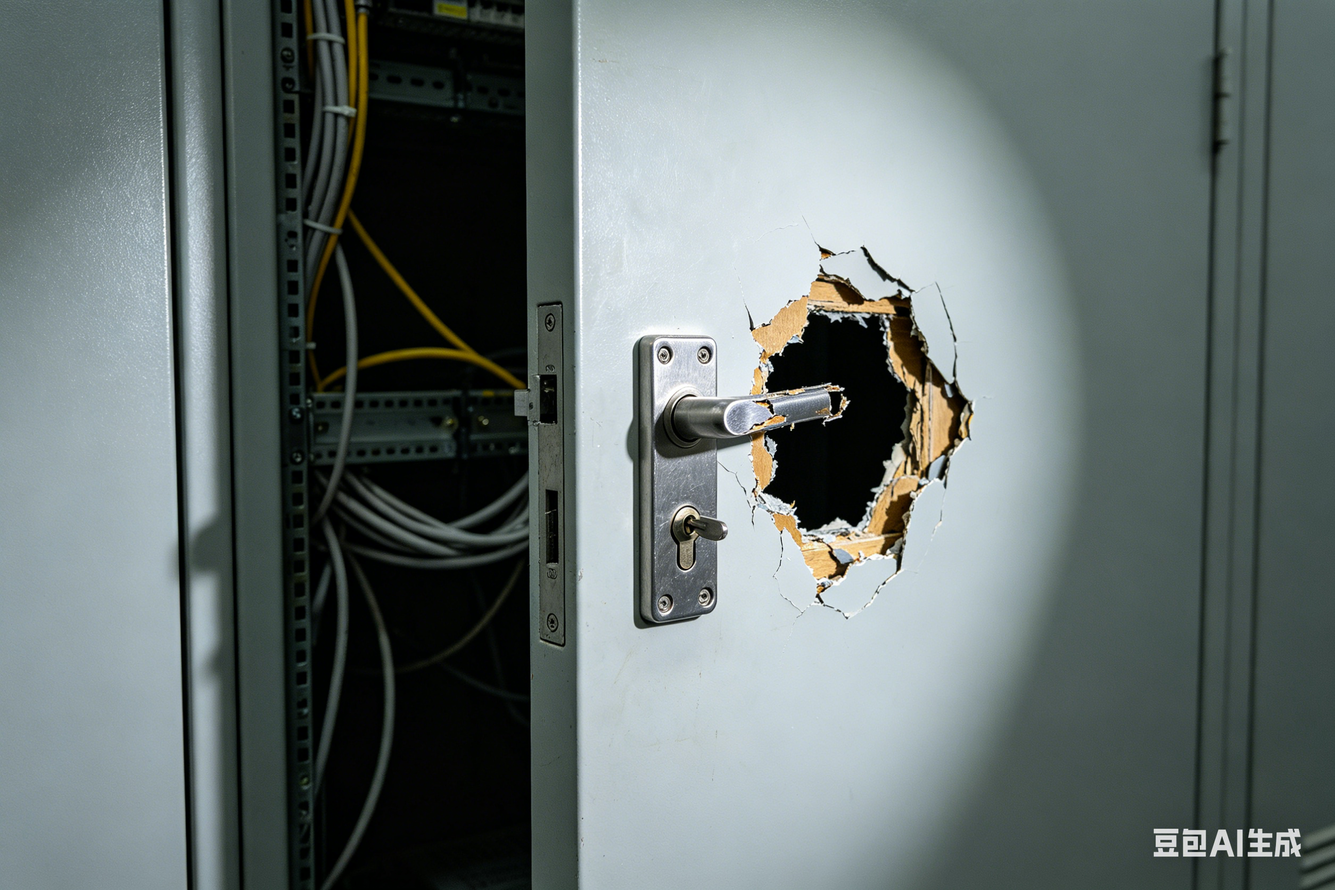BadLock: (654, 376, 859, 434)
